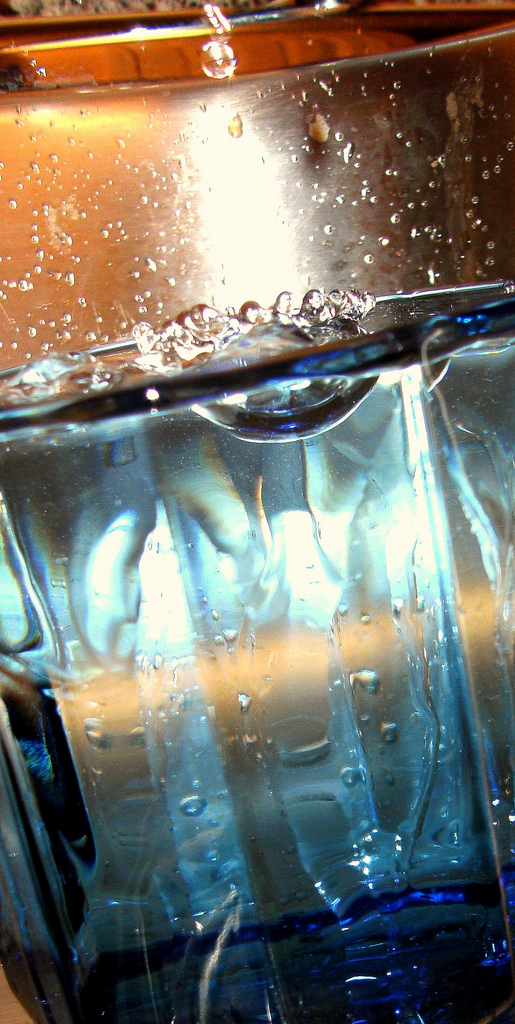glass of water: (24, 59, 478, 990)
